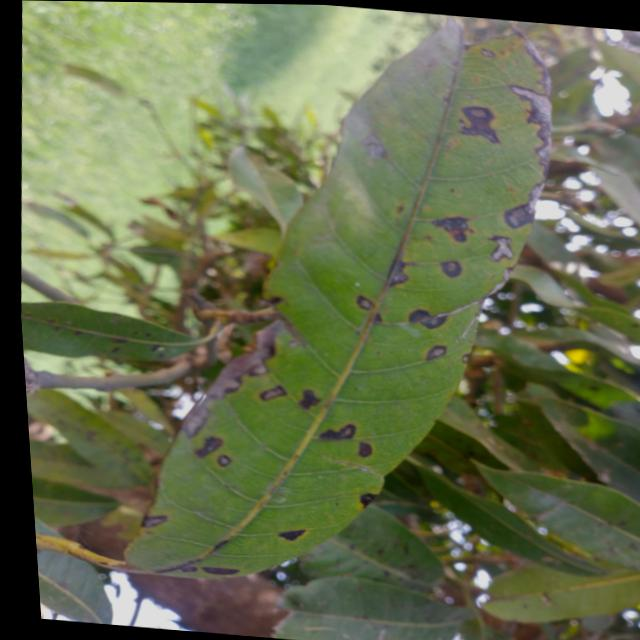Anthracnose: (344, 249, 463, 364), (499, 39, 563, 151), (430, 215, 523, 262), (453, 91, 506, 144), (180, 558, 240, 582), (271, 527, 311, 542), (350, 491, 374, 511)
